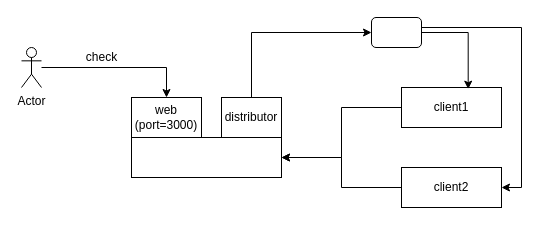
Image size: 547x225. Some labels were removed from this diagram. The centre of each missing label's shape, as x and y in pixels:
server (port=8124): pixel 206 157
task: pixel 396 32
